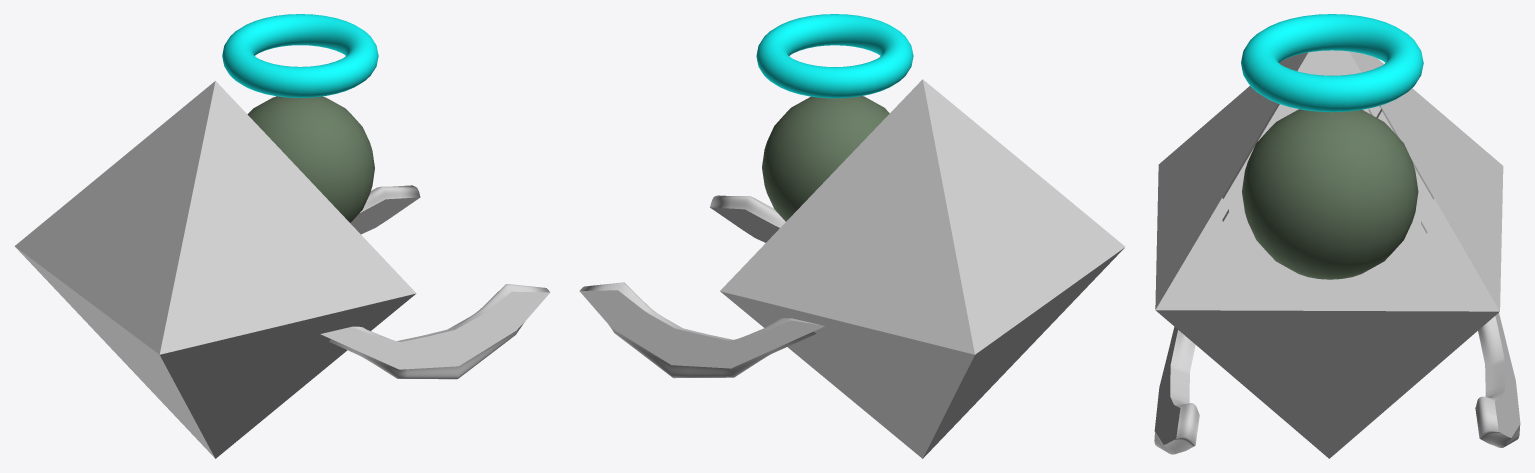
File: Debugging Program [Green].fbx
The picture shows the model from 3 angles, left to right: view 1: azimuth 30°, elevation 25°; view 2: azimuth 150°, elevation 25°; view 3: azimuth 270°, elevation 25°; orthographic projection. The views are drawn at different scales.
Visible parts, largest first — view 1: Platonic, Torus, Sphere, Cap_2, Right_Arm, Cap_2_2, Left_Arm_1; view 2: Platonic, Torus, Sphere, Cap_1_2, Left_Arm_1, Cap_1, Right_Arm; view 3: Platonic, Sphere, Torus, Left_Arm_1, Right_Arm, Cap_1_2, Cap_2.
Part boxes in pixels (x1=…): Platonic: x1=14, y1=81, x2=416, y2=458; Torus: x1=222, y1=14, x2=378, y2=97; Sphere: x1=247, y1=96, x2=374, y2=222; Cap_2: x1=320, y1=291, x2=549, y2=369; Right_Arm: x1=329, y1=284, x2=549, y2=379; Cap_2_2: x1=350, y1=197, x2=419, y2=234; Left_Arm_1: x1=360, y1=185, x2=420, y2=212; Platonic: x1=720, y1=79, x2=1125, y2=458; Torus: x1=756, y1=14, x2=913, y2=98; Sphere: x1=762, y1=96, x2=889, y2=221; Cap_1_2: x1=579, y1=290, x2=824, y2=368; Left_Arm_1: x1=580, y1=282, x2=818, y2=378; Cap_1: x1=710, y1=207, x2=779, y2=242; Right_Arm: x1=710, y1=195, x2=785, y2=227; Platonic: x1=1155, y1=50, x2=1503, y2=458; Sphere: x1=1242, y1=109, x2=1418, y2=279; Torus: x1=1241, y1=14, x2=1423, y2=112; Left_Arm_1: x1=1475, y1=316, x2=1520, y2=447; Right_Arm: x1=1154, y1=330, x2=1199, y2=454; Cap_1_2: x1=1494, y1=313, x2=1520, y2=437; Cap_2: x1=1154, y1=327, x2=1180, y2=444.
Size of the model in its own units: 220 by 209 by 150.
